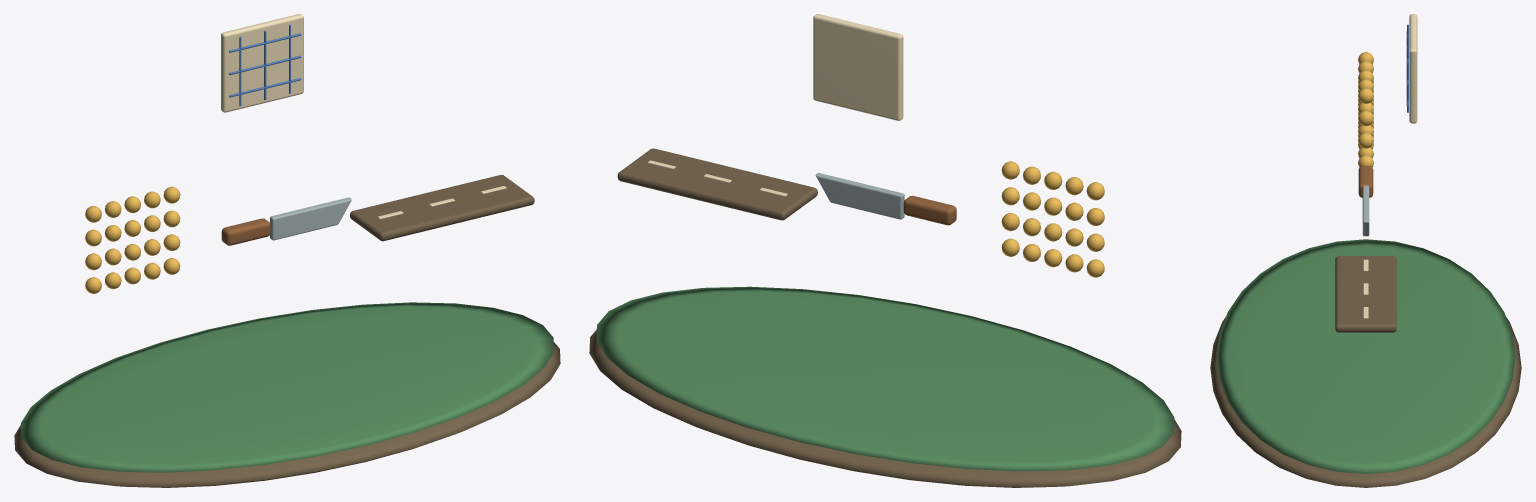
File: complete-third-hundred-dividing-link.glb
The picture shows the model from 3 angles, left to right: view 1: azimuth 30°, elevation 25°; view 2: azimuth 150°, elevation 25°; view 3: azimuth 270°, elevation 25°; orthographic projection. The views are drawn at different scales.
Parts seen in each view (by area): view 1: complete-third-hundred-dividing-link_surface_01, complete-third-hundred-dividing-link_surface_00, complete-third-hundred-dividing-link_surface_05, complete-third-hundred-dividing-link_surface_02, complete-third-hundred-dividing-link_surface_04, complete-third-hundred-dividing-link_surface_06, complete-third-hundred-dividing-link_surface_03; view 2: complete-third-hundred-dividing-link_surface_01, complete-third-hundred-dividing-link_surface_00, complete-third-hundred-dividing-link_surface_05, complete-third-hundred-dividing-link_surface_02, complete-third-hundred-dividing-link_surface_04, complete-third-hundred-dividing-link_surface_03; view 3: complete-third-hundred-dividing-link_surface_01, complete-third-hundred-dividing-link_surface_00, complete-third-hundred-dividing-link_surface_02, complete-third-hundred-dividing-link_surface_05, complete-third-hundred-dividing-link_surface_03, complete-third-hundred-dividing-link_surface_04.
Part boxes in pixels (x1,y1,x2,y2): complete-third-hundred-dividing-link_surface_01: (21,302,553,472); complete-third-hundred-dividing-link_surface_00: (14,175,560,487); complete-third-hundred-dividing-link_surface_05: (221,14,506,219); complete-third-hundred-dividing-link_surface_02: (85,186,180,293); complete-third-hundred-dividing-link_surface_04: (270,197,351,240); complete-third-hundred-dividing-link_surface_06: (229,24,301,106); complete-third-hundred-dividing-link_surface_03: (221,218,270,245); complete-third-hundred-dividing-link_surface_01: (596,286,1174,471); complete-third-hundred-dividing-link_surface_00: (589,148,1181,487); complete-third-hundred-dividing-link_surface_05: (647,14,903,196); complete-third-hundred-dividing-link_surface_02: (1001,161,1104,277); complete-third-hundred-dividing-link_surface_04: (815,173,904,219); complete-third-hundred-dividing-link_surface_03: (903,195,956,225); complete-third-hundred-dividing-link_surface_01: (1216,239,1515,473); complete-third-hundred-dividing-link_surface_00: (1210,256,1521,487); complete-third-hundred-dividing-link_surface_02: (1358,52,1373,167); complete-third-hundred-dividing-link_surface_05: (1363,14,1417,318); complete-third-hundred-dividing-link_surface_03: (1358,166,1373,197); complete-third-hundred-dividing-link_surface_04: (1362,185,1369,236).
Size of the model in its own units: 4.56 by 3.11 by 2.5.
